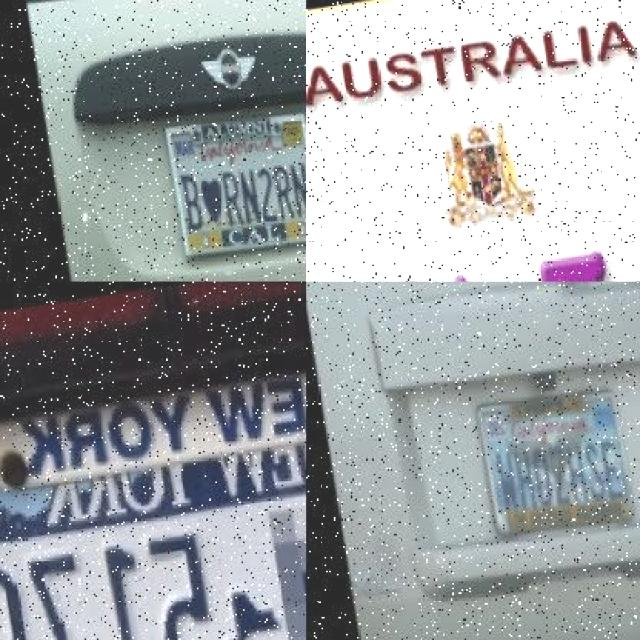licenseplate: (0, 451, 306, 640), (306, 196, 640, 282), (478, 383, 638, 540), (160, 97, 306, 263)
